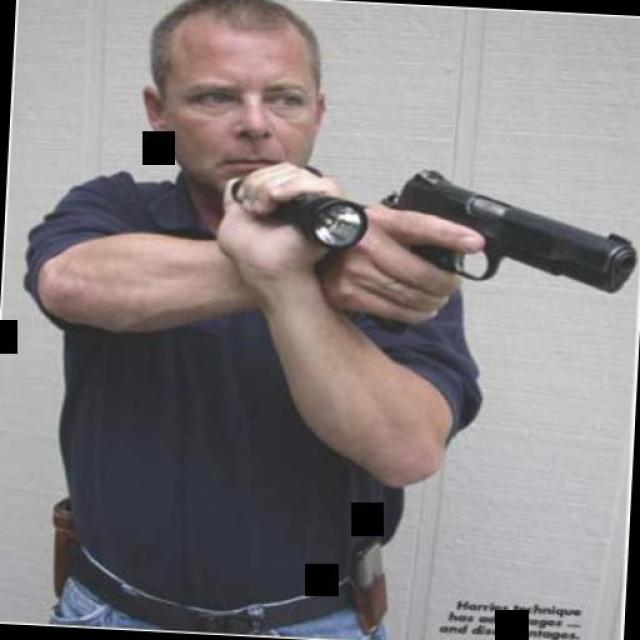gun: (344, 162, 636, 352)
